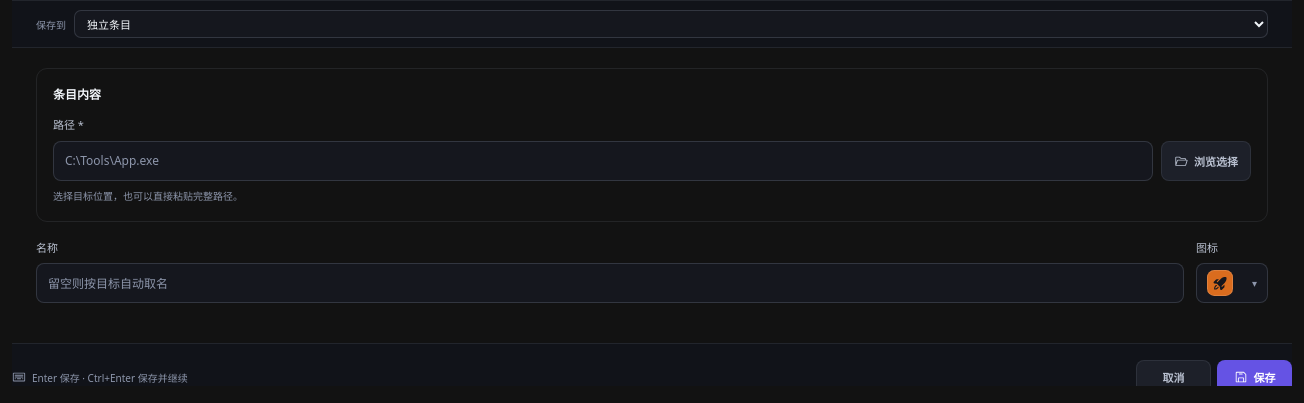
Test: ItemForm › uses the native file picker and derives a name for a new application
The width and height of the screenshot is (1304, 403).
What coordinates should you click on to do the following:
click the button with test id "item-browse"
I would click on:
 (1206, 160)
Its box is [1161,140,1251,180].
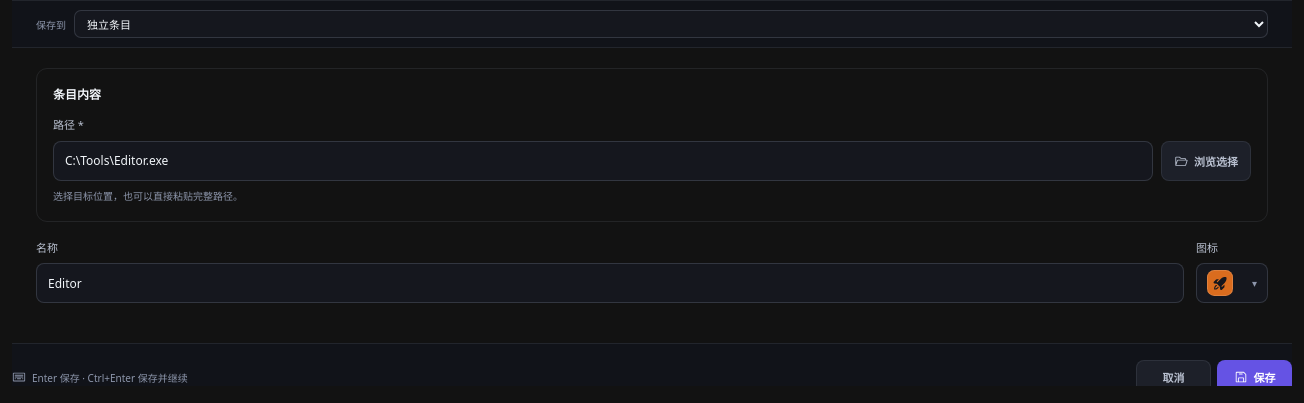
Check: the field with test id "item-path-input" holds "C:\\Tools\\Editor.exe", box [53,140,1153,180]
Check: the field with test id "item-name-input" holds "Editor", box [36,263,1184,303]
